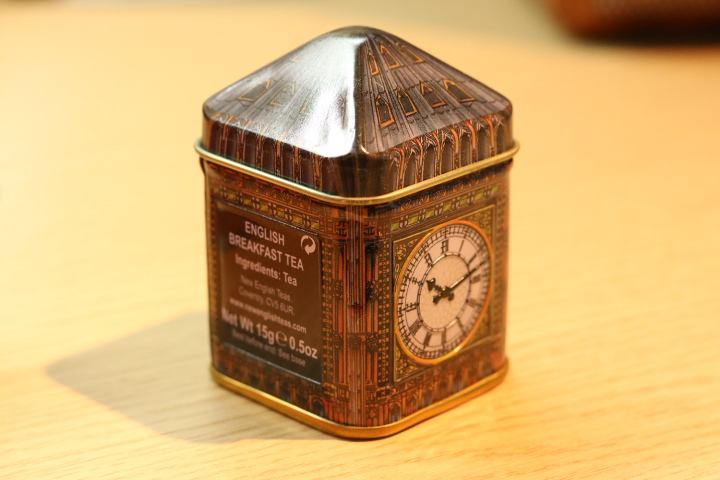Big Ben: (189, 21, 535, 450)
